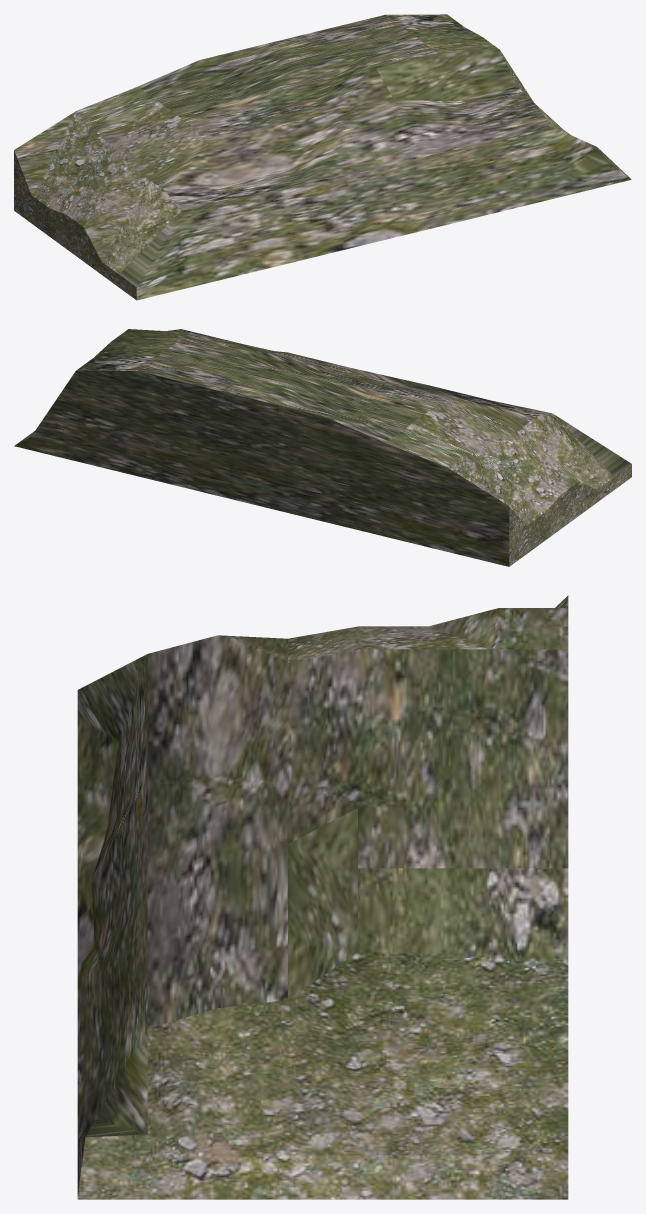
File: ground.fbx
3 views of the same model, one above another, from view 1: azimuth 30°, elevation 25°; view 2: azimuth 150°, elevation 25°; view 3: azimuth 270°, elevation 25° (orthographic). The views are drawn at different scales.
Visible parts, largest first — view 1: pCube6; view 2: pCube6; view 3: pCube6.
Part boxes in pixels (x1,y1,x2,y2): pCube6: [14, 14, 631, 300]; pCube6: [14, 329, 631, 566]; pCube6: [77, 595, 568, 1199].
Size of the model in its own units: 64.35 by 13.07 by 27.62.
Materials: 1 (1 with a texture image).
